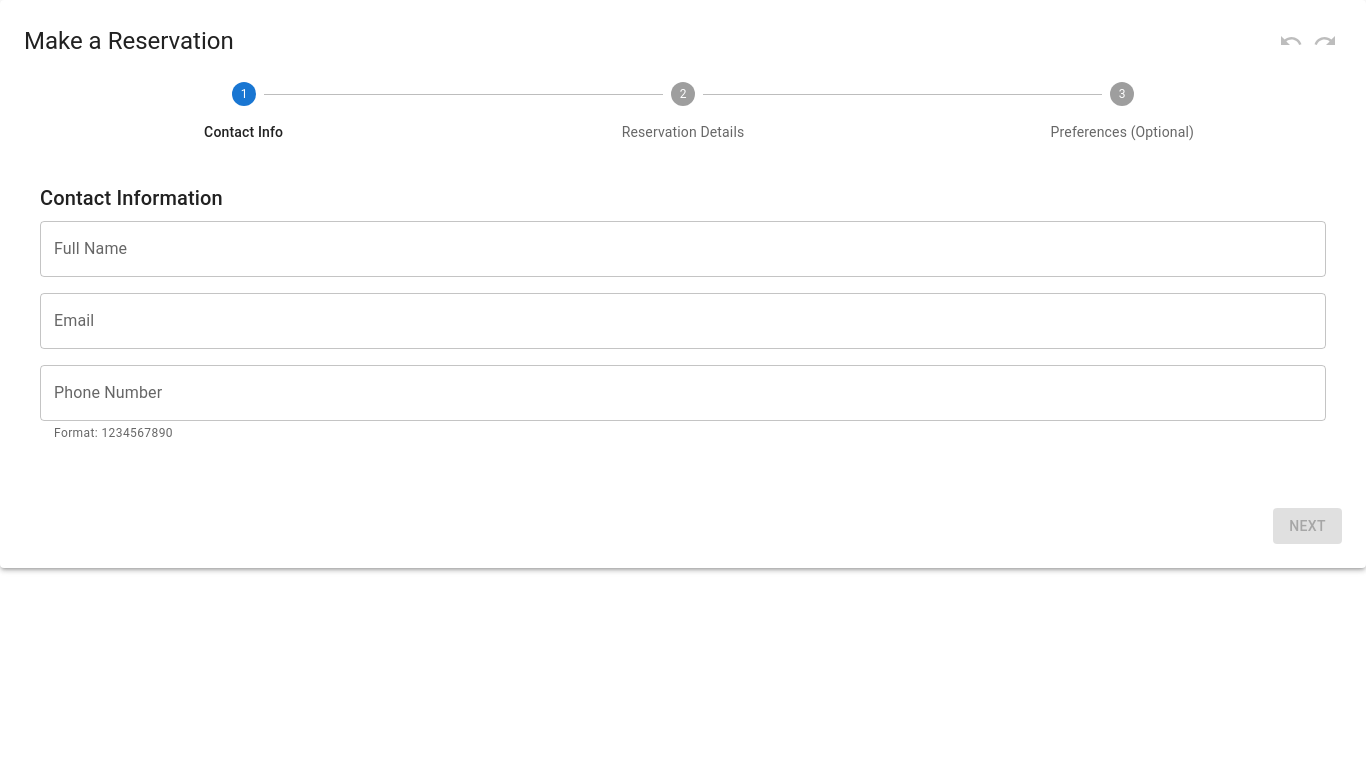
Test: BookingForm JavaScript Validation › displays error when name is too short
The image size is (1366, 768).
Type "a" into the field labelled "Full Name" at (683, 249), box [40, 221, 1326, 277]
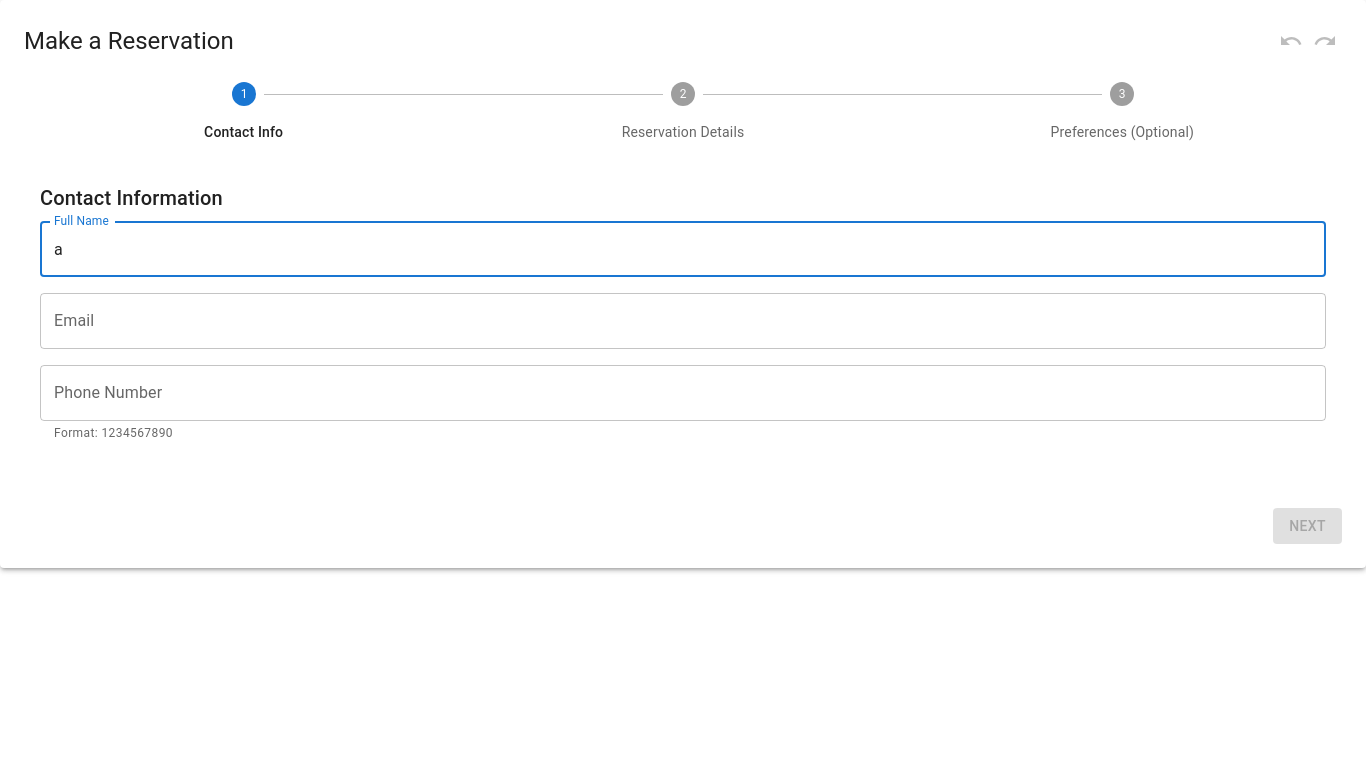
Leave the field labelled "Full Name", box [40, 221, 1326, 277]
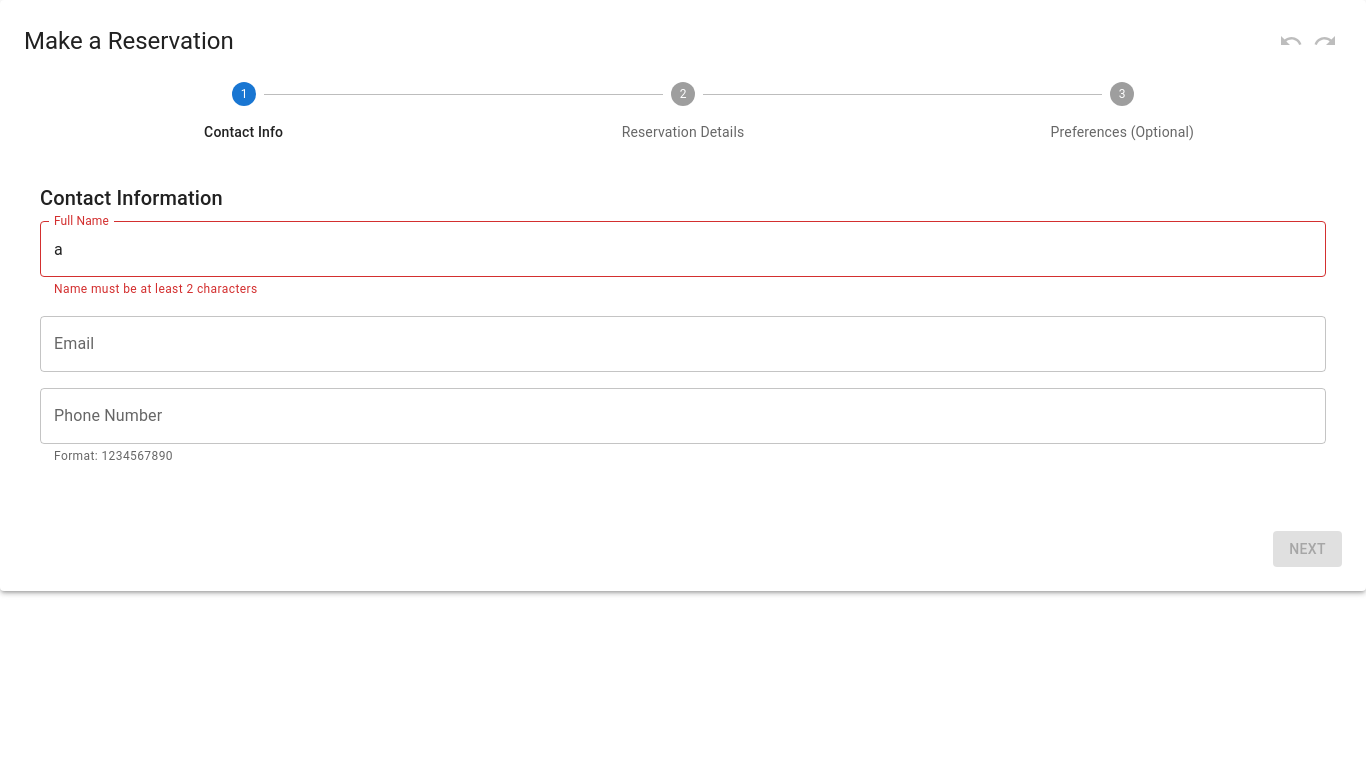
Now the text "Name must be at least 2 characters" is shown, box [54, 282, 258, 296]
